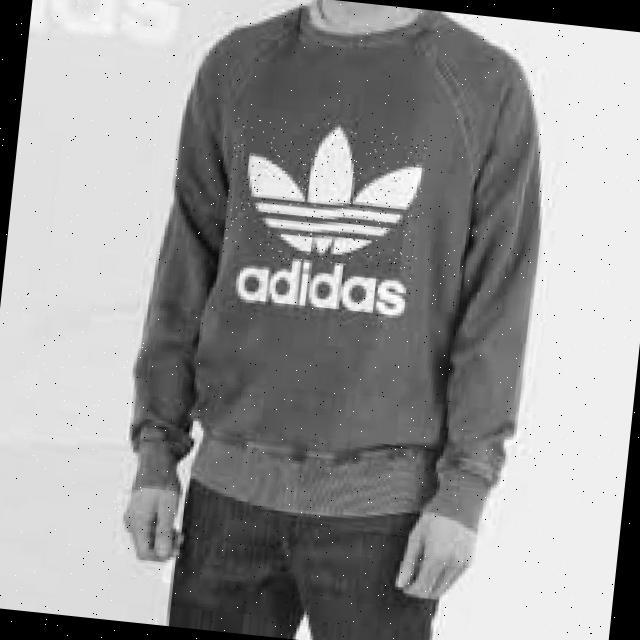Adidas: (222, 113, 431, 273)
